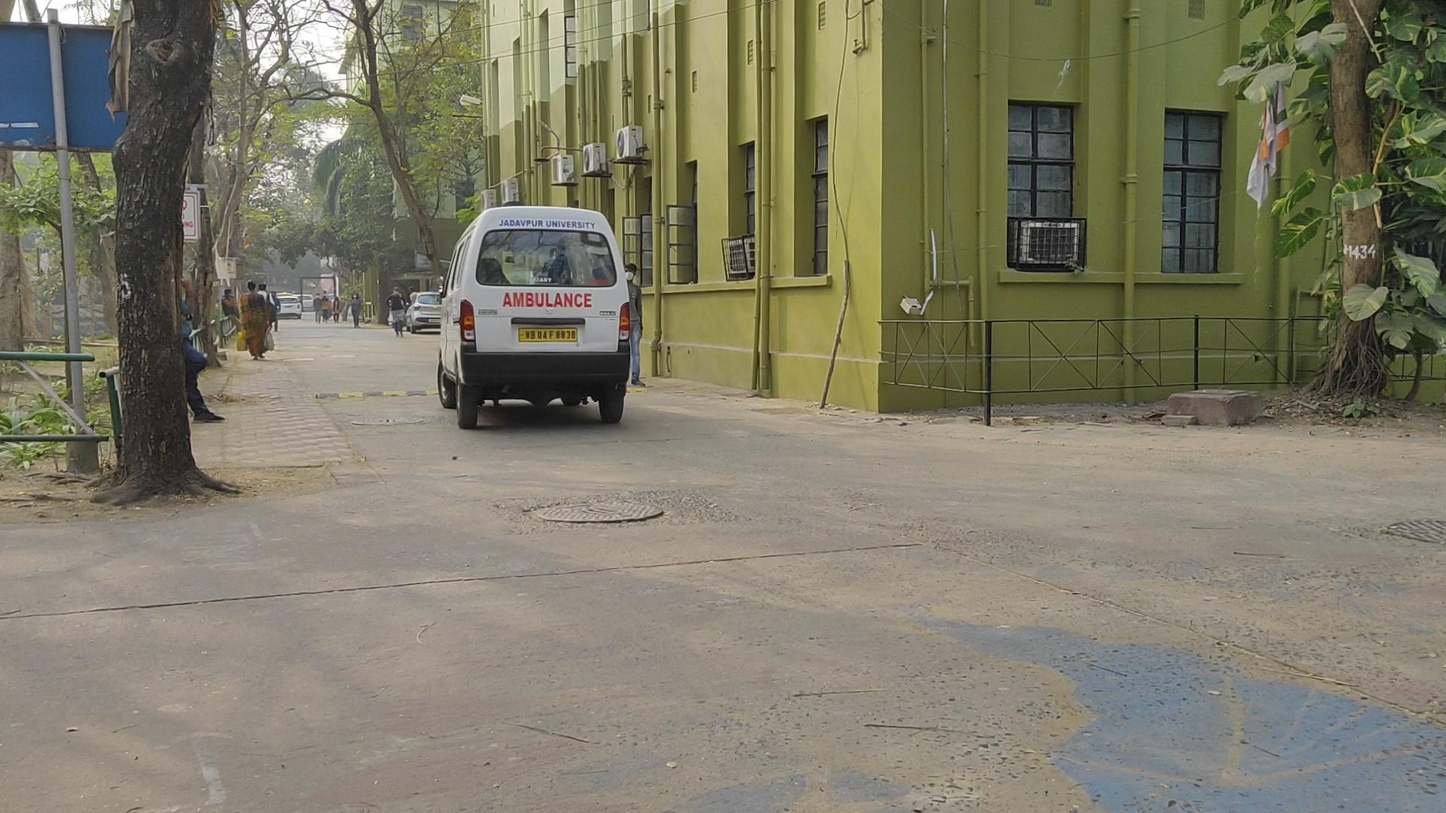car: (406, 291, 446, 334), (272, 296, 303, 320)
van: (438, 204, 627, 431)
